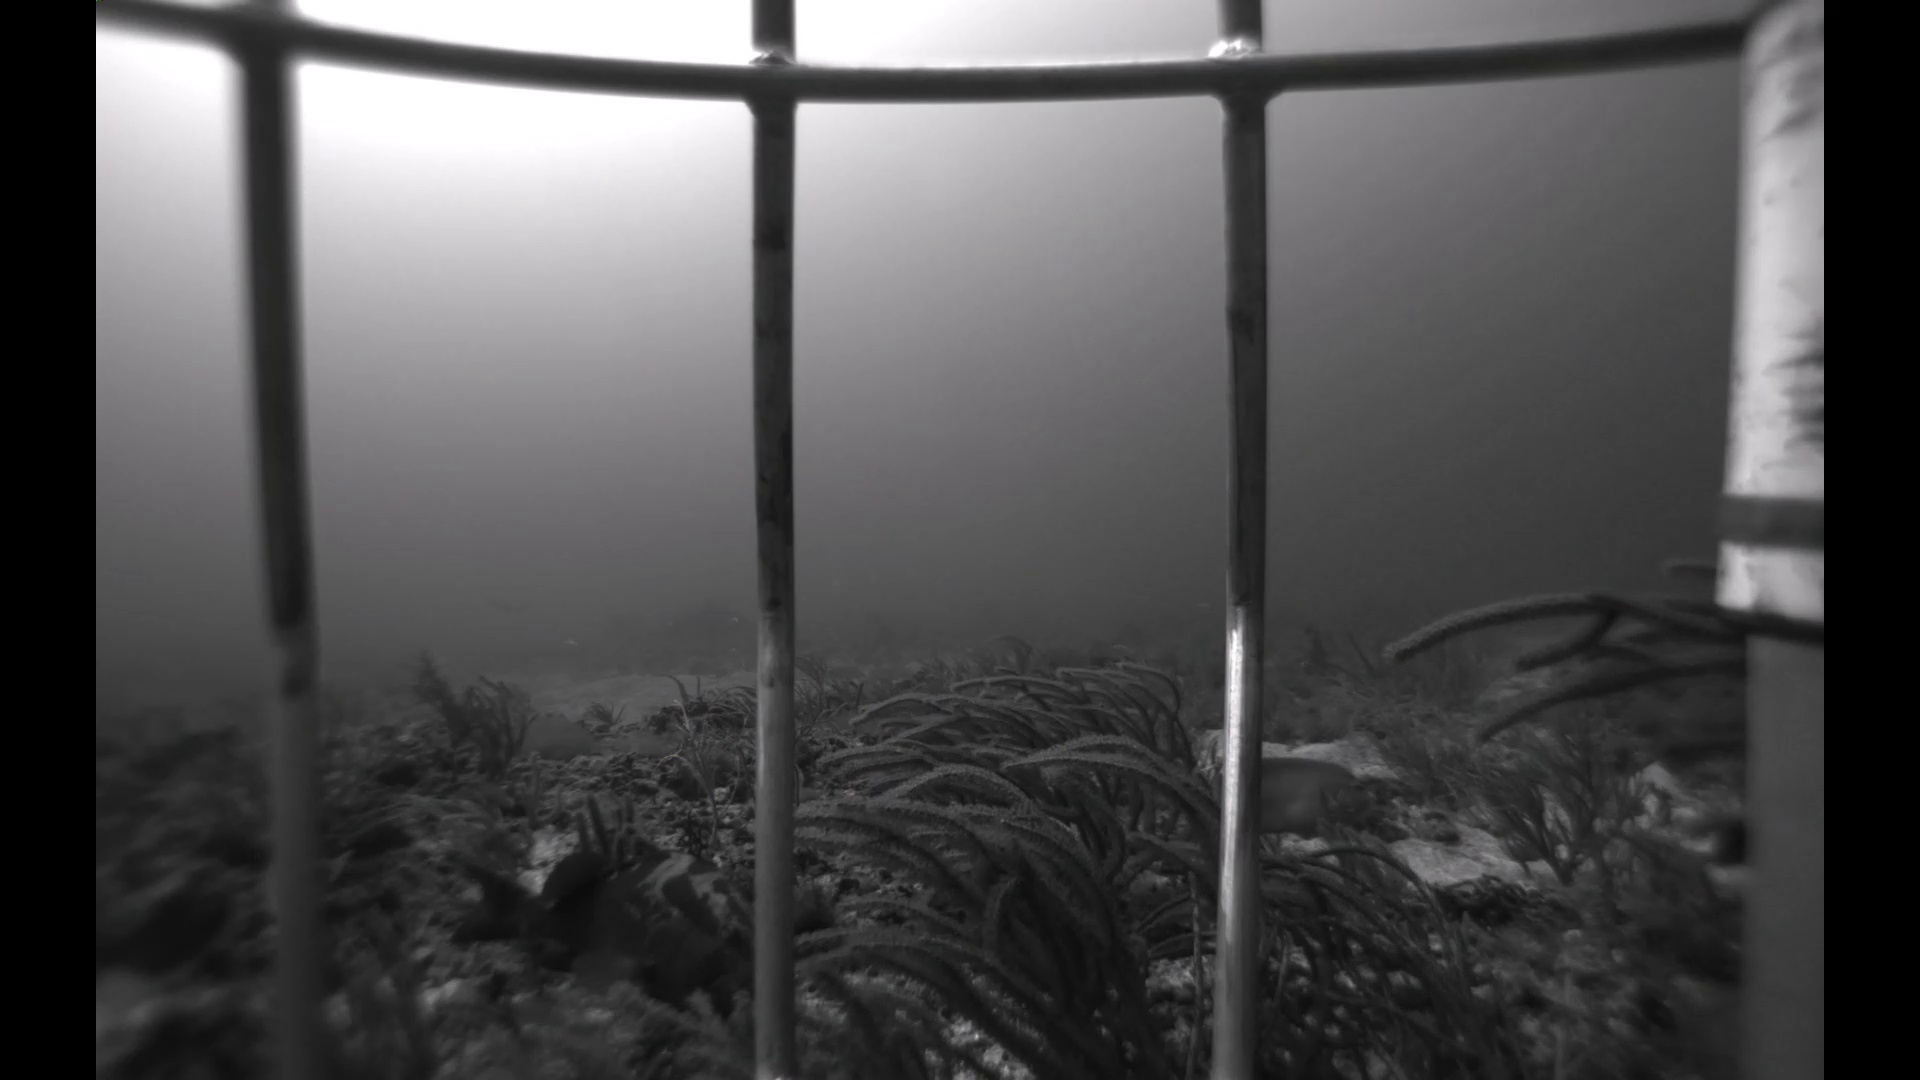CHAETODONOCELLATUS-170260307: (105, 696, 200, 760), (247, 837, 285, 918)
EPINEPHELUSMORIO-170021211: (434, 825, 758, 1007)
HOLACANTHUSBERMUDENSIS-170290102: (1262, 744, 1381, 845)
HYPOPLECTRUS-170021500: (1665, 798, 1753, 884)
IOGLOSSUS-170550800: (559, 634, 585, 651), (1189, 593, 1213, 611), (727, 615, 742, 628), (723, 644, 740, 655), (736, 657, 748, 669), (828, 630, 840, 641)
PAGRUSPAGRUS-170212302: (473, 588, 543, 622)
